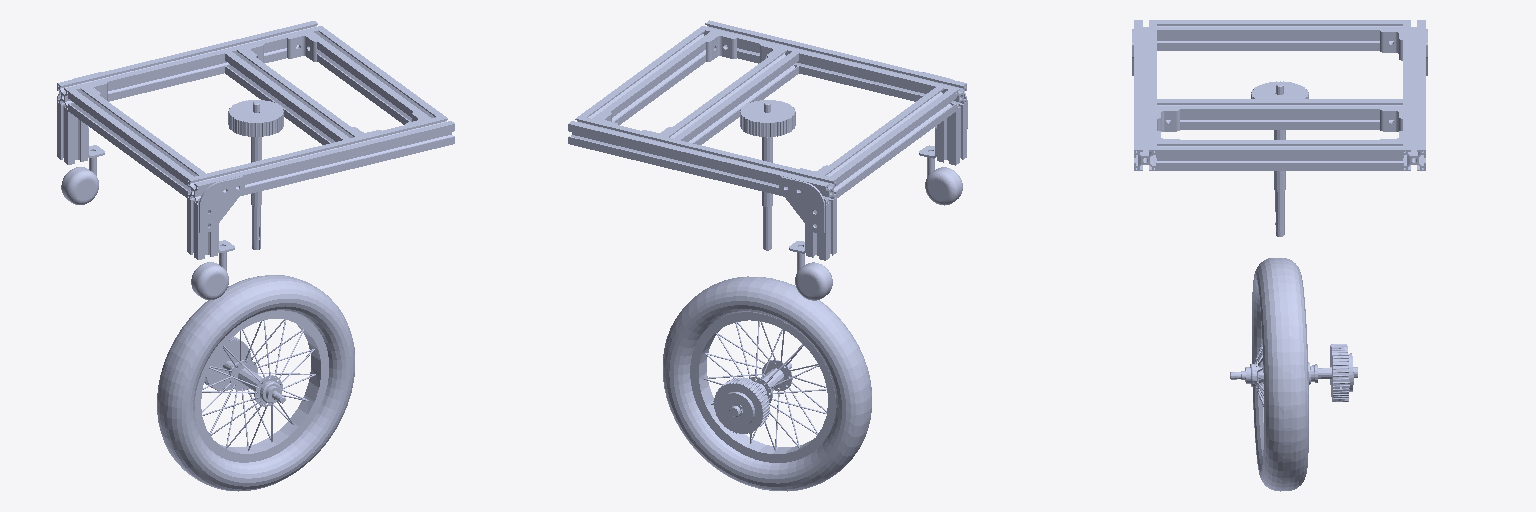
The robot description file, URDF, robot "ROS_Module_Assembly_v5":
<?xml version="1.0" encoding="utf-8"?>
<!-- This URDF was automatically created by SolidWorks to URDF Exporter! Originally created by [author] ([email redacted]) 
     Commit Version: 1.6.0-4-g7f85cfe  Build Version: 1.6.7995.38578
     For more information, please see http://wiki.ros.org/sw_urdf_exporter -->
<robot
  name="ROS_Module_Assembly_v5">
  <link
    name="base_link">
    <inertial>
      <origin
        xyz="0.0317243201587635 -0.128858942998281 -0.0390948539276146"
        rpy="0 0 0" />
      <mass
        value="2.19605365865044" />
      <inertia
        ixx="0.00636969397959149"
        ixy="3.38792695900137E-05"
        ixz="-1.30911858394432E-07"
        iyy="0.0035477515326301"
        iyz="-1.1650821227698E-06"
        izz="0.00903296845626077" />
    </inertial>
    <visual>
      <origin
        xyz="0 0 0"
        rpy="0 0 0" />
      <geometry>
        <mesh
          filename="package://ROS_Module_Assembly_v5/meshes/base_link.STL" />
      </geometry>
      <material
        name="">
        <color
          rgba="0.792156862745098 0.819607843137255 0.933333333333333 1" />
      </material>
    </visual>
    <collision>
      <origin
        xyz="0 0 0"
        rpy="0 0 0" />
      <geometry>
        <mesh
          filename="package://ROS_Module_Assembly_v5/meshes/base_link.STL" />
      </geometry>
    </collision>
  </link>
  <link
    name="input_transl_motor">
    <inertial>
      <origin
        xyz="-1.86501153539576E-05 0.0471529677388539 -6.65458510142602E-05"
        rpy="0 0 0" />
      <mass
        value="0.0322551764640257" />
      <inertia
        ixx="1.59512613902741E-05"
        ixy="1.85134210099302E-09"
        ixz="3.57500867077114E-09"
        iyy="2.73036636453636E-06"
        iyz="6.6055090731218E-09"
        izz="1.59630154913409E-05" />
    </inertial>
    <visual>
      <origin
        xyz="0 0 0"
        rpy="0 0 0" />
      <geometry>
        <mesh
          filename="package://ROS_Module_Assembly_v5/meshes/input_transl_motor.STL" />
      </geometry>
      <material
        name="">
        <color
          rgba="0.792156862745098 0.819607843137255 0.933333333333333 1" />
      </material>
    </visual>
    <collision>
      <origin
        xyz="0 0 0"
        rpy="0 0 0" />
      <geometry>
        <mesh
          filename="package://ROS_Module_Assembly_v5/meshes/input_transl_motor.STL" />
      </geometry>
    </collision>
  </link>
  <joint
    name="base_to_input_transport"
    type="continuous">
    <origin
      xyz="0.07615 -0.16897 -0.008"
      rpy="1.5708 0 -1.8542" />
    <parent
      link="base_link" />
    <child
      link="input_transl_motor" />
    <axis
      xyz="0 1 0" />
  </joint>
  <link
    name="vert_bevel_shaft_transl">
    <inertial>
      <origin
        xyz="-4.11906576253118E-06 0.0429645254960244 -2.07212903265142E-05"
        rpy="0 0 0" />
      <mass
        value="0.119268839432703" />
      <inertia
        ixx="0.000123219155791243"
        ixy="-9.10291133470462E-09"
        ixz="2.32362997039993E-09"
        iyy="6.17307007401612E-05"
        iyz="-4.57855855631893E-08"
        izz="0.000123230383261293" />
    </inertial>
    <visual>
      <origin
        xyz="0 0 0"
        rpy="0 0 0" />
      <geometry>
        <mesh
          filename="package://ROS_Module_Assembly_v5/meshes/vert_bevel_shaft_transl.STL" />
      </geometry>
      <material
        name="">
        <color
          rgba="0.792156862745098 0.819607843137255 0.933333333333333 1" />
      </material>
    </visual>
    <collision>
      <origin
        xyz="0 0 0"
        rpy="0 0 0" />
      <geometry>
        <mesh
          filename="package://ROS_Module_Assembly_v5/meshes/vert_bevel_shaft_transl.STL" />
      </geometry>
    </collision>
  </link>
  <joint
    name="input_transl_to_vert_bevel"
    type="continuous">
    <origin
      xyz="-0.14094 0 0.12037"
      rpy="3.1416 1.4265 3.1416" />
    <parent
      link="input_transl_motor" />
    <child
      link="vert_bevel_shaft_transl" />
    <axis
      xyz="0 1 0" />
  </joint>
  <link
    name="wheel">
    <inertial>
      <origin
        xyz="3.03769242848695E-06 -3.96137631675231E-06 0.00395635936545961"
        rpy="0 0 0" />
      <mass
        value="2.07570429178156" />
      <inertia
        ixx="0.0166150265336278"
        ixy="4.01513670011859E-09"
        ixz="9.58604981529622E-08"
        iyy="0.016614986162682"
        iyz="-1.50148134527095E-09"
        izz="0.032300006871497" />
    </inertial>
    <visual>
      <origin
        xyz="0 0 0"
        rpy="0 0 0" />
      <geometry>
        <mesh
          filename="package://ROS_Module_Assembly_v5/meshes/wheel.STL" />
      </geometry>
      <material
        name="">
        <color
          rgba="0.792156862745098 0.819607843137255 0.933333333333333 1" />
      </material>
    </visual>
    <collision>
      <origin
        xyz="0 0 0"
        rpy="0 0 0" />
      <geometry>
        <mesh
          filename="package://ROS_Module_Assembly_v5/meshes/wheel.STL" />
      </geometry>
    </collision>
  </link>
  <joint
    name="vert_bevel_to_wheel"
    type="continuous">
    <origin
      xyz="-0.000100274366745146 -0.327999999999999 -0.000489841863640539"
      rpy="3.14159265358979 -0.201918001624681 3.14159265358979" />
    <parent
      link="vert_bevel_shaft_transl" />
    <child
      link="wheel" />
    <axis
      xyz="0 0 -1" />
  </joint>
  <link
    name="input_rot_motor">
    <inertial>
      <origin
        xyz="-4.27720584713631E-05 0.0320085266107966 7.43535191642941E-05"
        rpy="0 0 0" />
      <mass
        value="0.0250911416959944" />
      <inertia
        ixx="7.17846660403851E-06"
        ixy="6.77842383614615E-10"
        ixz="-1.16921418139205E-08"
        iyy="2.34243127132187E-06"
        iyz="-1.17772674165741E-09"
        izz="7.19206572805011E-06" />
    </inertial>
    <visual>
      <origin
        xyz="0 0 0"
        rpy="0 0 0" />
      <geometry>
        <mesh
          filename="package://ROS_Module_Assembly_v5/meshes/input_rot_motor.STL" />
      </geometry>
      <material
        name="">
        <color
          rgba="0.792156862745098 0.819607843137255 0.933333333333333 1" />
      </material>
    </visual>
    <collision>
      <origin
        xyz="0 0 0"
        rpy="0 0 0" />
      <geometry>
        <mesh
          filename="package://ROS_Module_Assembly_v5/meshes/input_rot_motor.STL" />
      </geometry>
    </collision>
  </link>
  <joint
    name="base_to_input_rot"
    type="continuous">
    <origin
      xyz="-0.0042500000000002 -0.18426521062757 -0.00899999999999995"
      rpy="1.5707963267949 0 -1.5707963267949" />
    <parent
      link="base_link" />
    <child
      link="input_rot_motor" />
    <axis
      xyz="0 1 0" />
  </joint>
  <link
    name="fork">
    <inertial>
      <origin
        xyz="0.0198462260220973 -0.168442224214665 -0.000611102768812377"
        rpy="0 0 0" />
      <mass
        value="2.19393880191611" />
      <inertia
        ixx="0.0114868451333075"
        ixy="2.94683464449566E-05"
        ixz="-8.65740011659286E-05"
        iyy="0.00390974130997633"
        iyz="3.21297894857837E-06"
        izz="0.00906482134489652" />
    </inertial>
    <visual>
      <origin
        xyz="0 0 0"
        rpy="0 0 0" />
      <geometry>
        <mesh
          filename="package://ROS_Module_Assembly_v5/meshes/fork.STL" />
      </geometry>
      <material
        name="">
        <color
          rgba="0.792156862745098 0.819607843137255 0.933333333333333 1" />
      </material>
    </visual>
    <collision>
      <origin
        xyz="0 0 0"
        rpy="0 0 0" />
      <geometry>
        <mesh
          filename="package://ROS_Module_Assembly_v5/meshes/fork.STL" />
      </geometry>
    </collision>
  </link>
  <joint
    name="input_transl_to_rot_fork"
    type="continuous">
    <origin
      xyz="-0.18427 0.001 -0.00425"
      rpy="3.1416 -0.027141 3.1416" />
    <parent
      link="input_rot_motor" />
    <child
      link="fork" />
    <axis
      xyz="0 1 0" />
  </joint>
</robot>

--- Render facts (derived) ---
The picture shows the robot from 3 angles, left to right: view 1: azimuth 30°, elevation 25°; view 2: azimuth 150°, elevation 25°; view 3: azimuth 270°, elevation 25°; orthographic projection.
Model ROS_Module_Assembly_v5 with 6 links and 5 joints (5 continuous), rooted at base_link, posed every joint at zero.
Visible links, largest first — view 1: base_link, wheel, vert_bevel_shaft_transl; view 2: base_link, wheel, vert_bevel_shaft_transl; view 3: base_link, wheel, vert_bevel_shaft_transl.
Boxes of the visible links, bbox=[...] form: base_link: bbox=[57, 21, 454, 299]; wheel: bbox=[157, 275, 354, 491]; vert_bevel_shaft_transl: bbox=[228, 100, 283, 249]; base_link: bbox=[568, 20, 967, 300]; wheel: bbox=[663, 276, 871, 491]; vert_bevel_shaft_transl: bbox=[740, 100, 795, 250]; base_link: bbox=[1132, 20, 1427, 170]; wheel: bbox=[1230, 258, 1357, 491]; vert_bevel_shaft_transl: bbox=[1251, 81, 1308, 236].
Size in the robot's own frame: 0.4 by 0.386 by 0.5698 metres.
3 mesh visuals loaded from 6 distinct referenced files (3 binary STL); not drawn: 3 (reference not matched to a file when rendering).